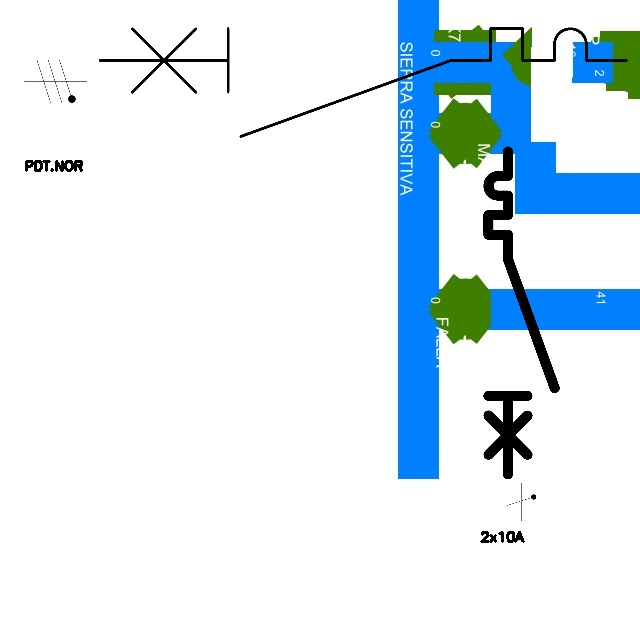interruptor_termomagnetico: (86, 15, 640, 150), (480, 143, 563, 483)
